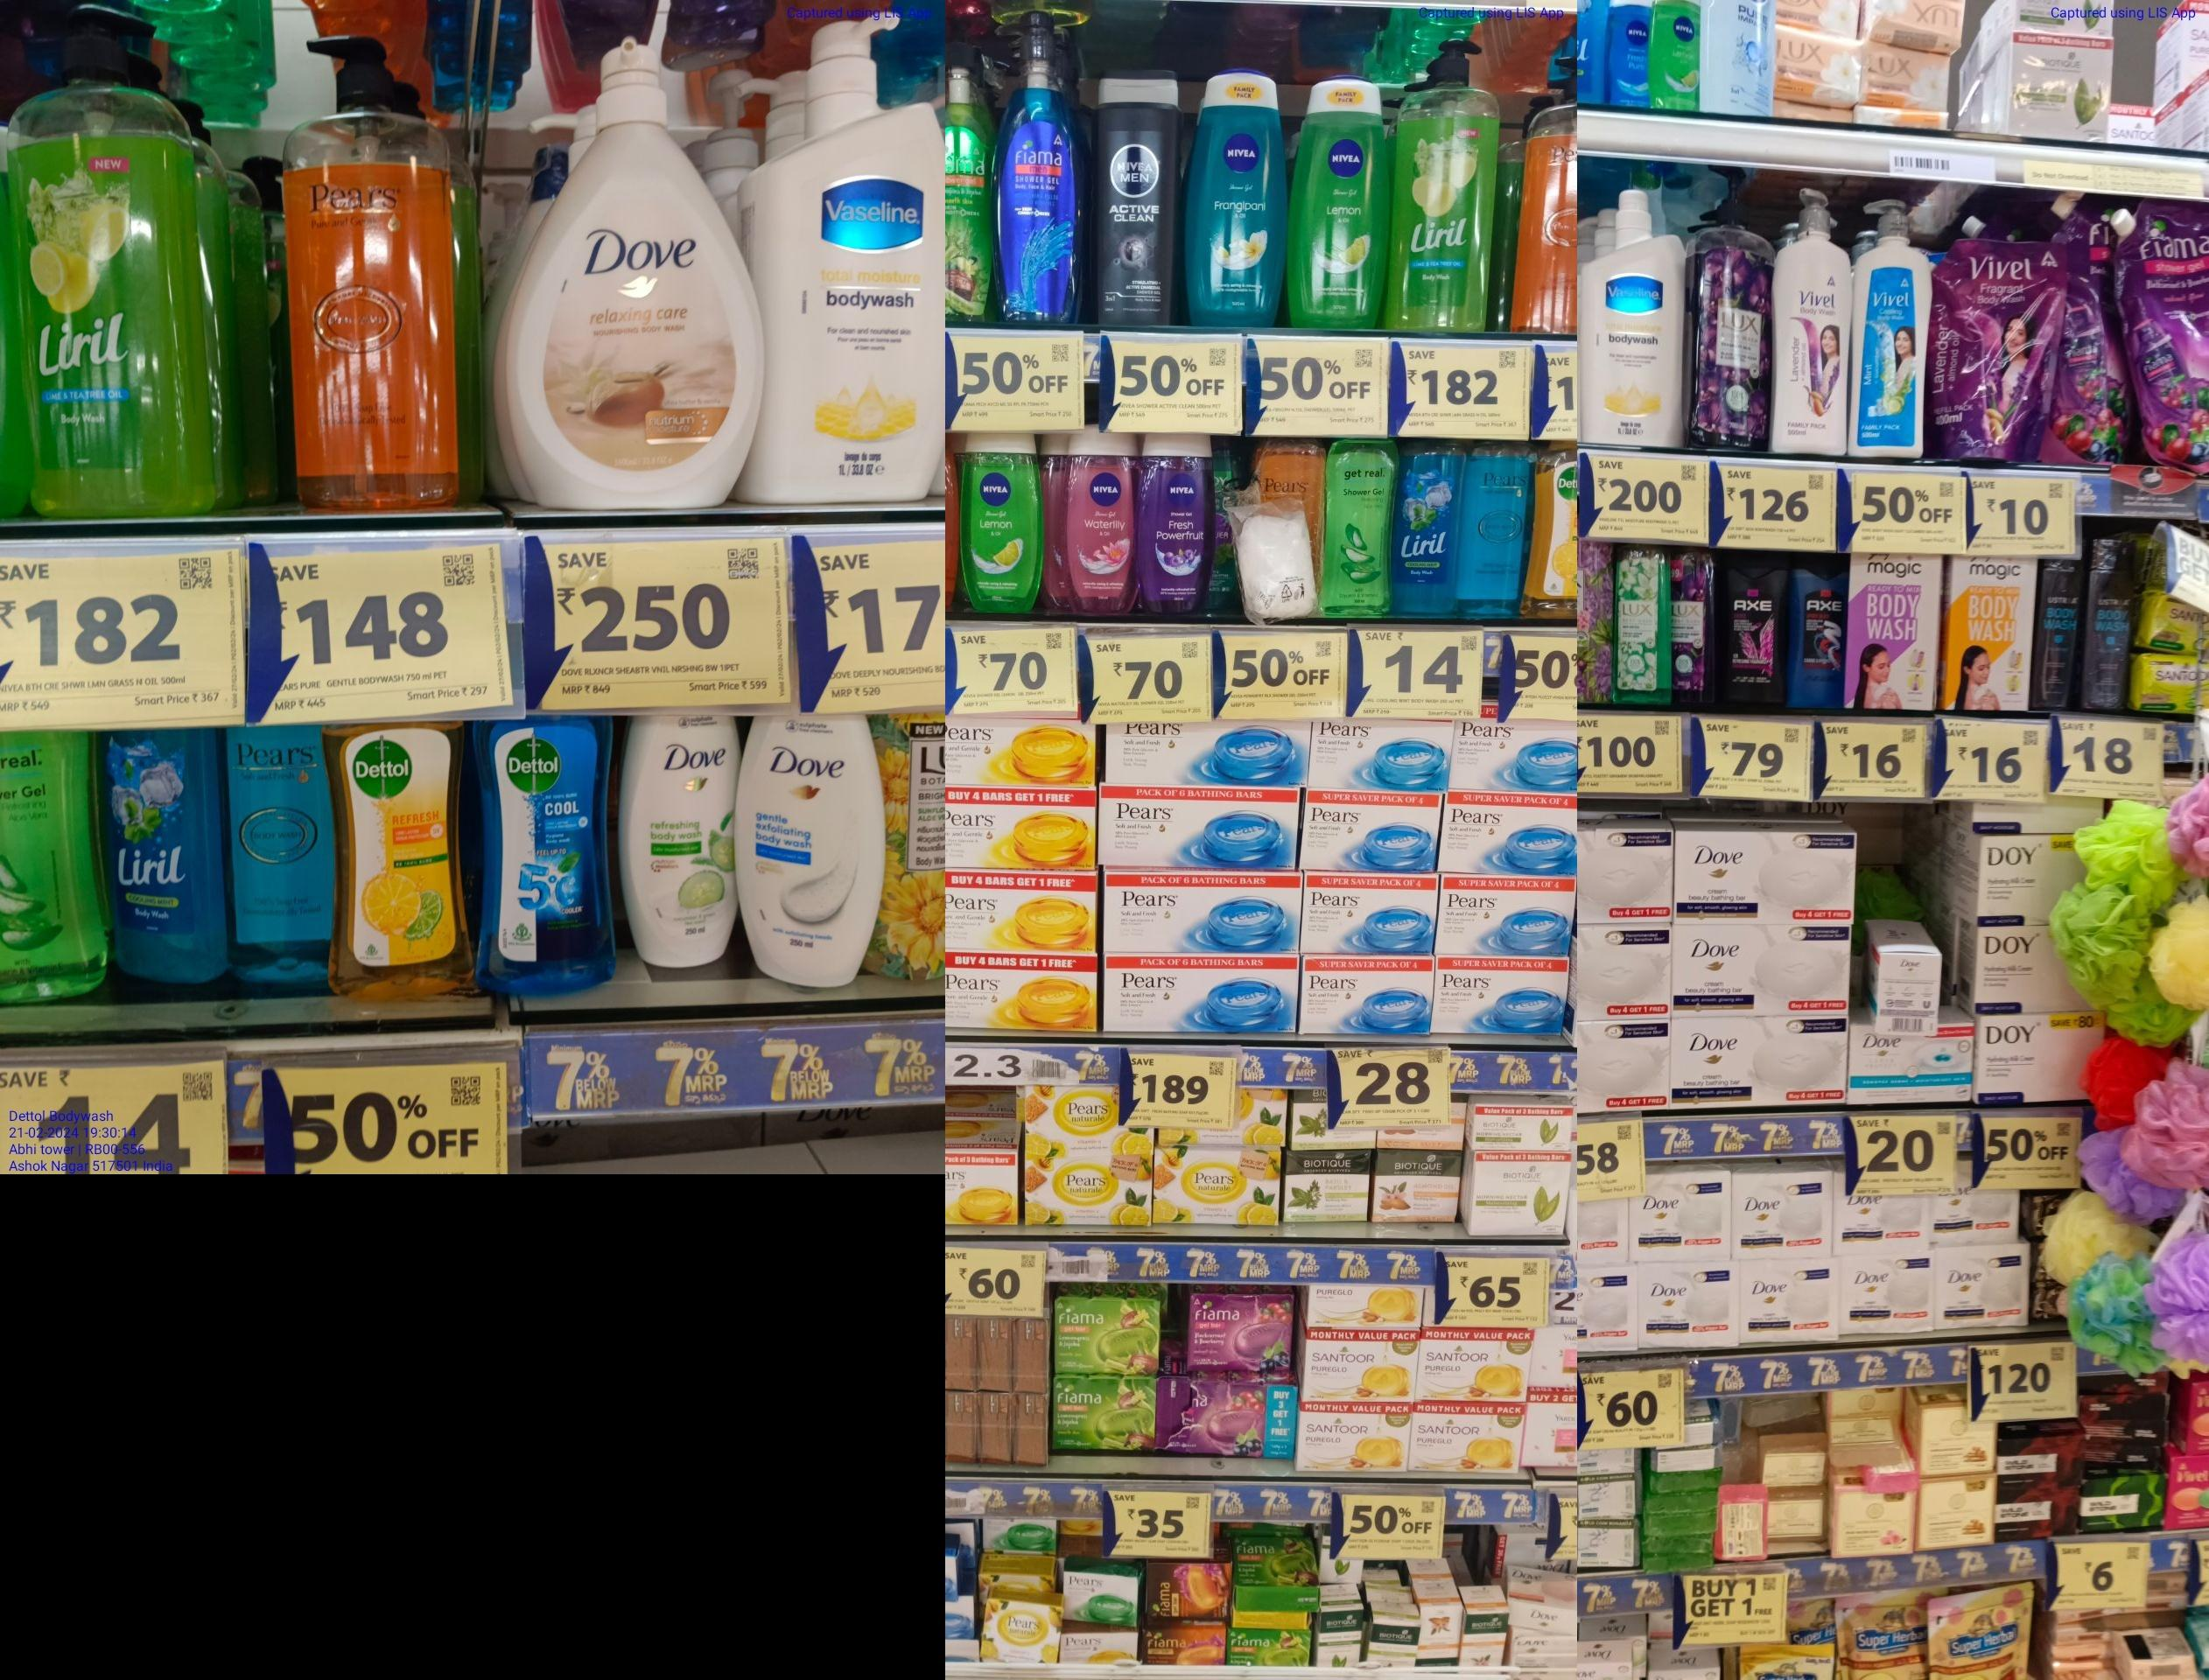Dettol_Bodywash_Cool: (483, 715, 626, 1001)
Dettol_Bodywash_Refresh: (332, 720, 476, 1001)
Dove_Gentle_Exfoliating_Body_Wash_250ML: (734, 708, 877, 988)
Dove_Refreshing_Body_Wash_250ML: (628, 709, 736, 971)
Liril_Cooling_Mint_Body_Wash_250ML: (1396, 443, 1463, 619)
Lux_Body_Wash_Skin_Detox_Freesia_Scent_and_Alove_Vera_245ML: (1611, 545, 1676, 706)
Nivea_Shower_Gel_Frangipani_and_Oil_250ML: (1189, 72, 1290, 325)
Nivea_Shower_Gel_Fresh_Powerfruit_250ML: (1138, 429, 1214, 623)
Nivea_Shower_Gel_Lemon_and_Oil_250ML: (1290, 76, 1394, 328), (960, 431, 1037, 616), (1650, 0, 1727, 76)
Nivea_Shower_Gel_Waterlily_and_Oil_250ML: (1067, 427, 1136, 616)
